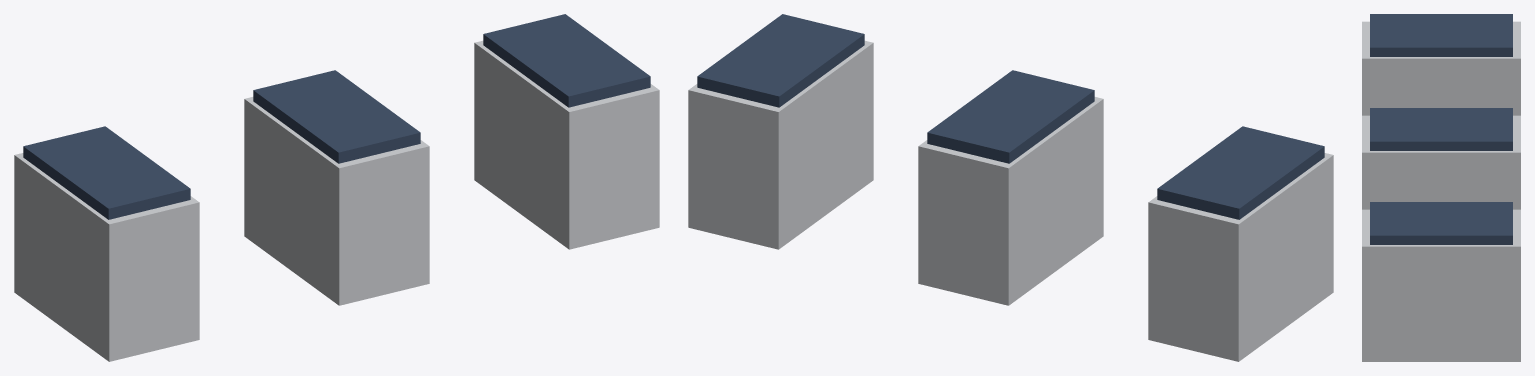
Rendered from mechanical-roof.glb.
The picture shows the model from 3 angles, left to right: view 1: azimuth 30°, elevation 25°; view 2: azimuth 150°, elevation 25°; view 3: azimuth 270°, elevation 25°; orthographic projection. The views are drawn at different scales.
Visible parts, largest first — view 1: mechanical-roof; view 2: mechanical-roof; view 3: mechanical-roof.
Boxes of the visible parts, left/top/right/bottom form: mechanical-roof: left=14, top=14, right=659, bottom=361; mechanical-roof: left=688, top=14, right=1333, bottom=361; mechanical-roof: left=1362, top=14, right=1520, bottom=361.
Bounding box in the file's own units: 0.67 × 0.173 × 0.2.
